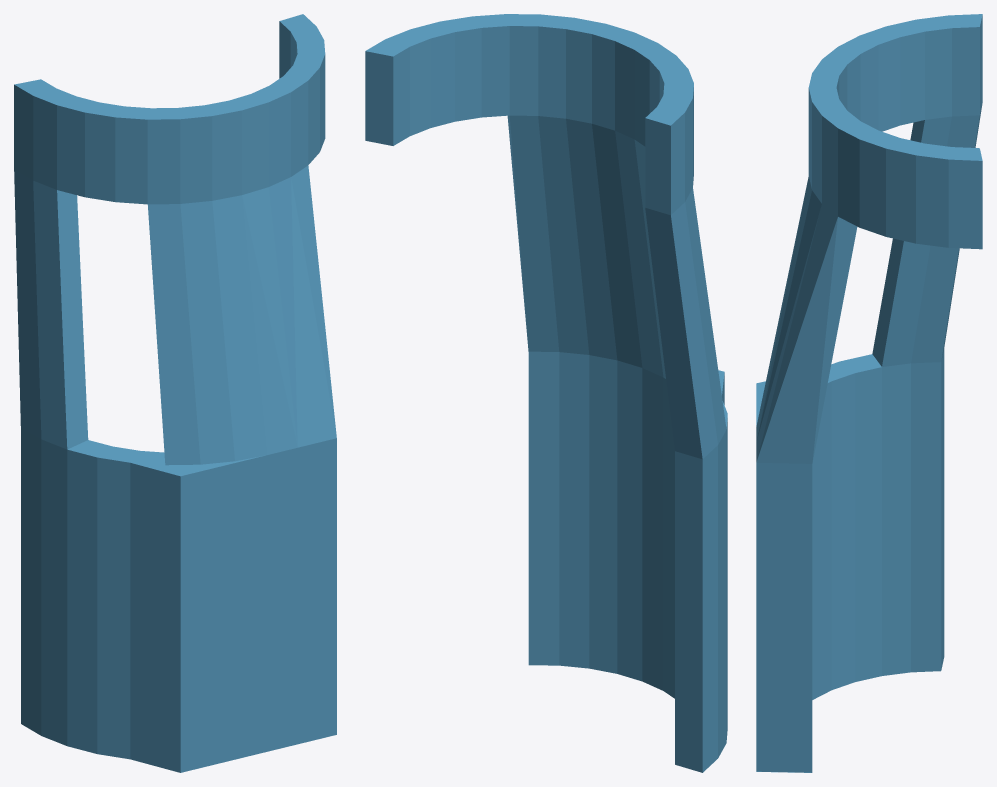
File: VIS_ElbowLink1.dae
The picture shows the model from 3 angles, left to right: view 1: azimuth 30°, elevation 25°; view 2: azimuth 150°, elevation 25°; view 3: azimuth 270°, elevation 25°; orthographic projection. The views are drawn at different scales.
Parts seen in each view (by area): view 1: VIS_ElbowLink1; view 2: VIS_ElbowLink1; view 3: VIS_ElbowLink1.
Boxes of the visible parts, left/top/right/bottom form: VIS_ElbowLink1: left=14, top=14, right=336, bottom=772; VIS_ElbowLink1: left=365, top=14, right=727, bottom=772; VIS_ElbowLink1: left=756, top=14, right=982, bottom=772.
Size of the model in its own units: 0.089 by 0.0557 by 0.1761.
